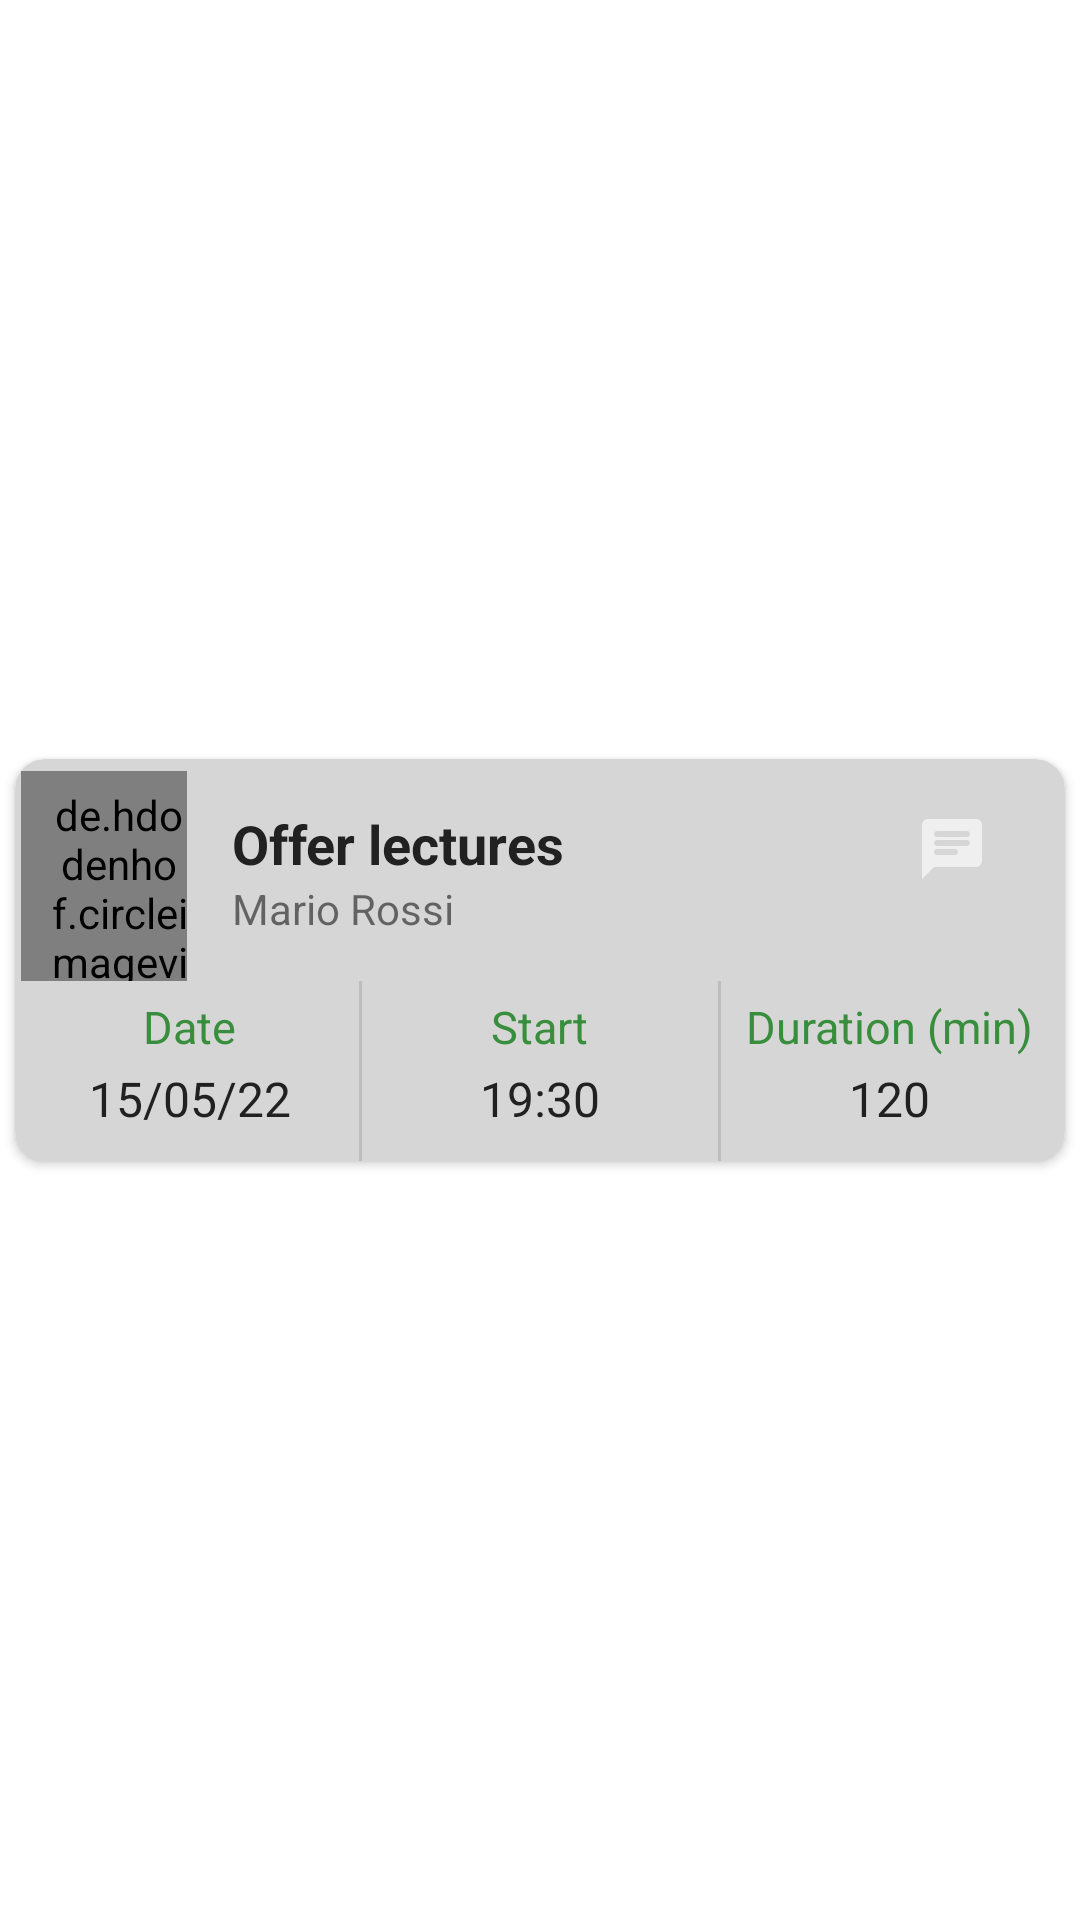

Named icons in this screenshot (1080px x 1920px) and their bounding boxes, (x1,y1,x2,y2):
chat: (922,819,982,878)
